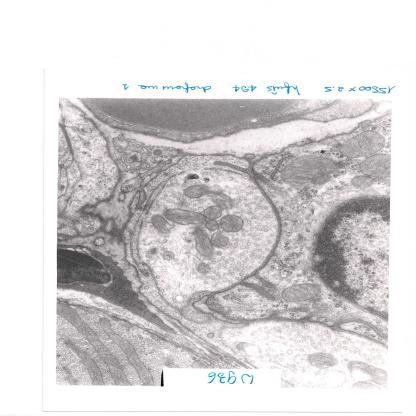mitochondria: (338, 132, 388, 158), (190, 227, 216, 259), (281, 283, 322, 302), (163, 207, 206, 225), (208, 191, 238, 210), (309, 352, 339, 370), (218, 214, 247, 232), (182, 182, 210, 198), (148, 215, 172, 233), (209, 230, 229, 249), (349, 175, 376, 188), (203, 205, 225, 219), (204, 219, 222, 232), (195, 262, 213, 274)
